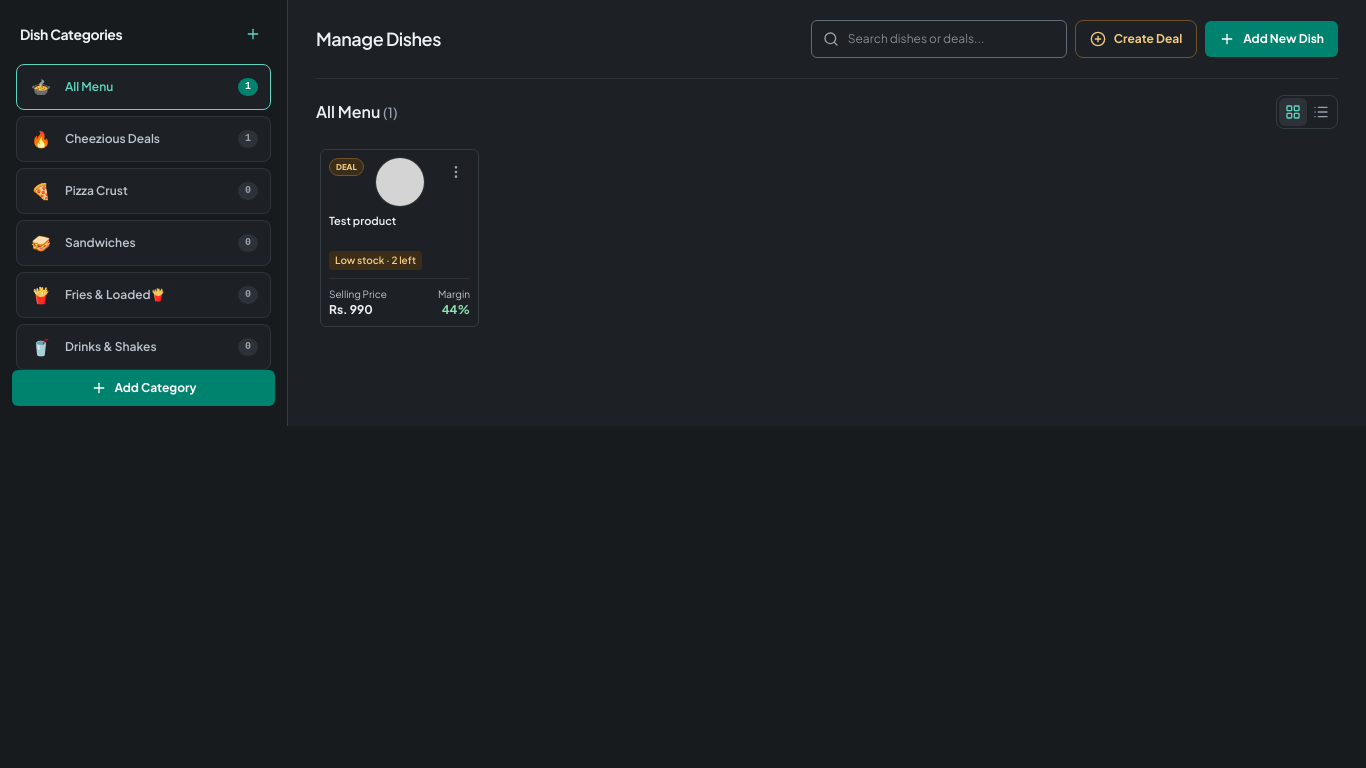
Scenario: product management feedback and keyboard navigation › opens stock adjustment through the focused menu action
Click the button named "Actions for Test product".
click(456, 172)  # box [442,158,470,186]
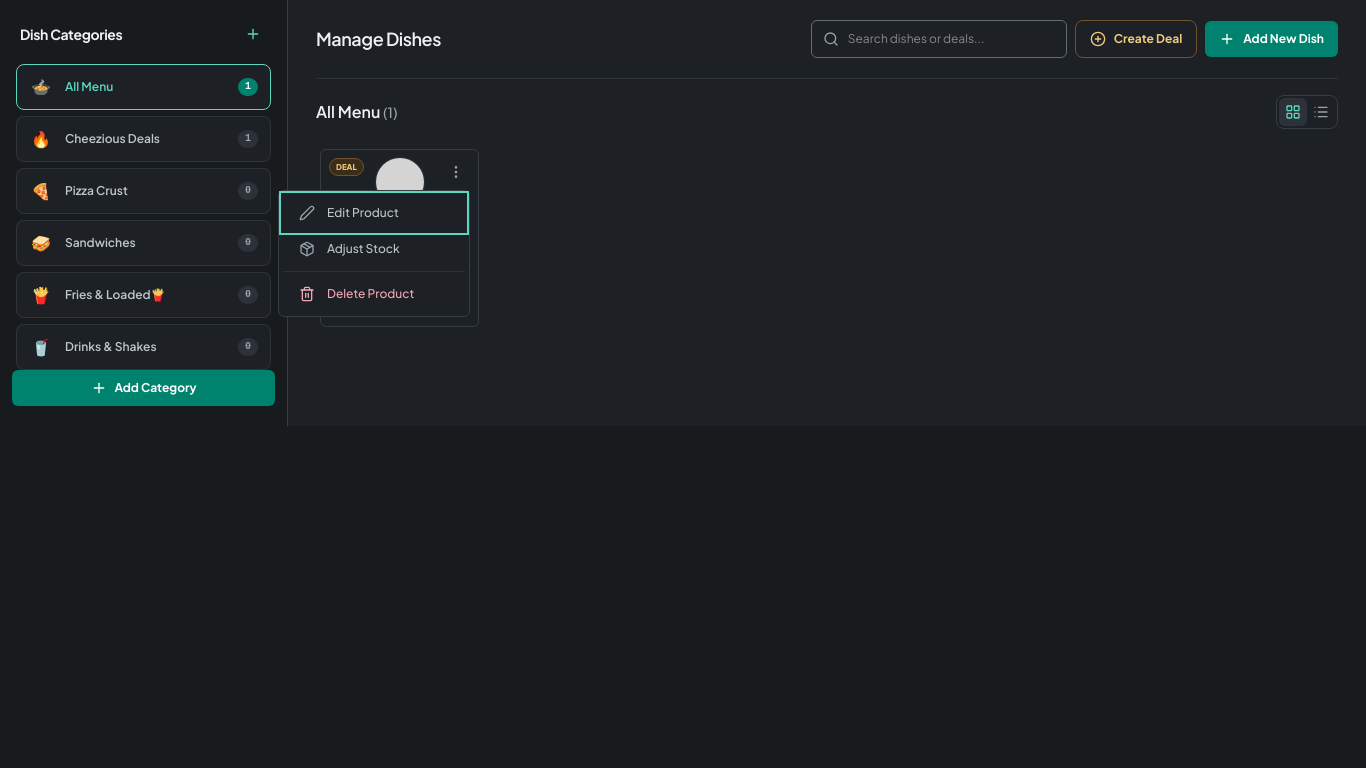
Press Arrowdown Enter
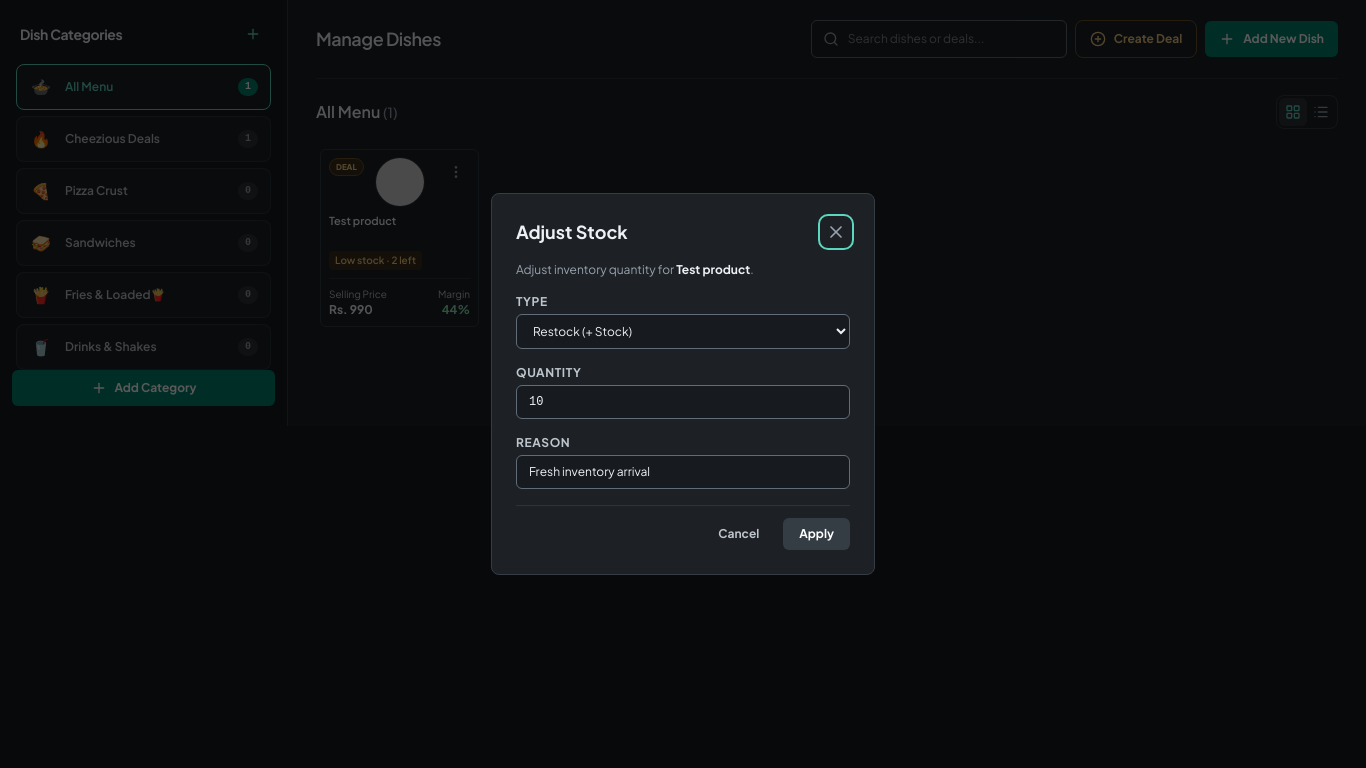
Check: the heading "Adjust Stock" is shown, box [516,218,628,246]
Check: the menu is gone
